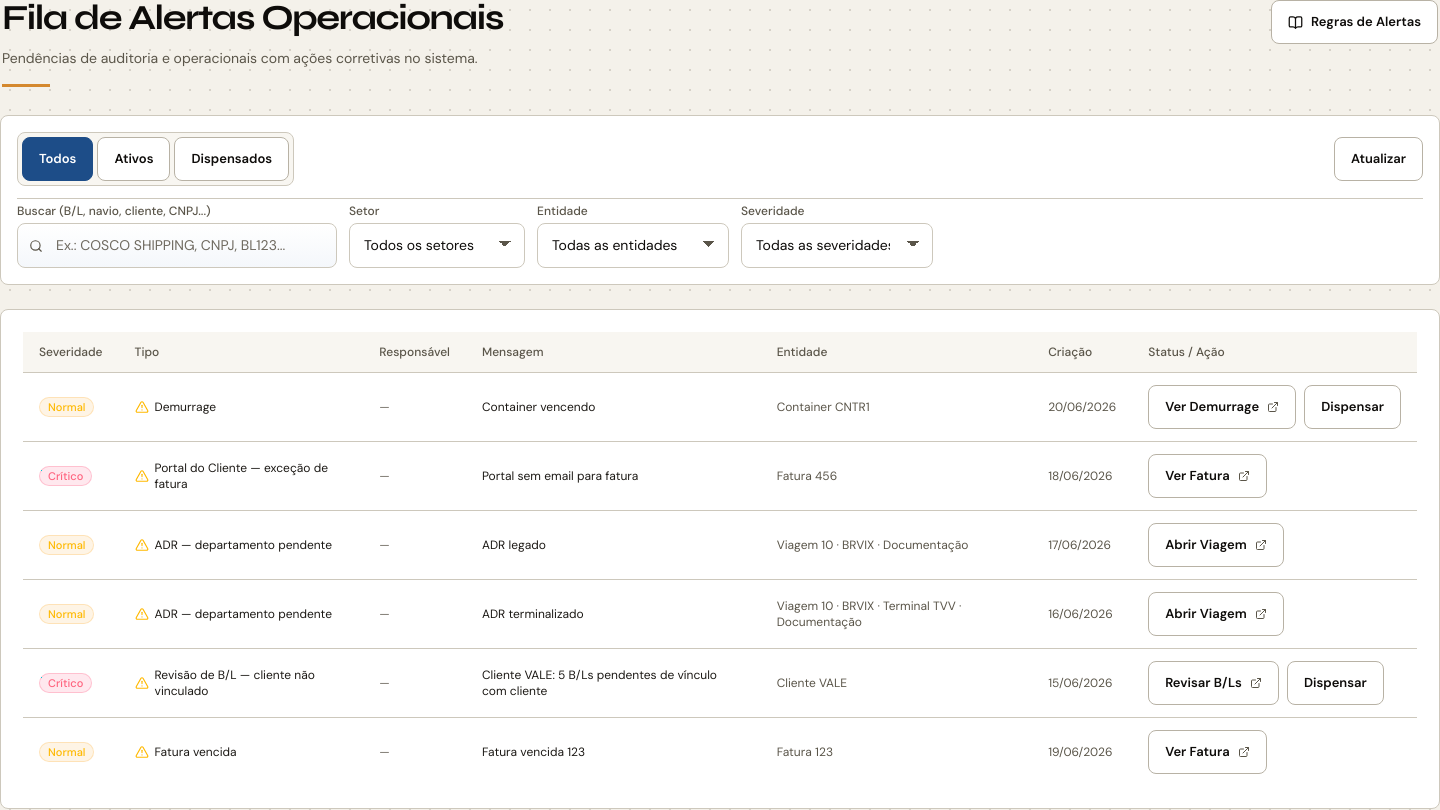
Scenario: abre modal de dispensa com acessibilidade, data minima futura e limpa campos ao cancelar
This screenshot has width=1440, height=810.
Click the button "Dispensar" next to "Ver Demurrage": (1353, 407) [1304,385,1401,429]
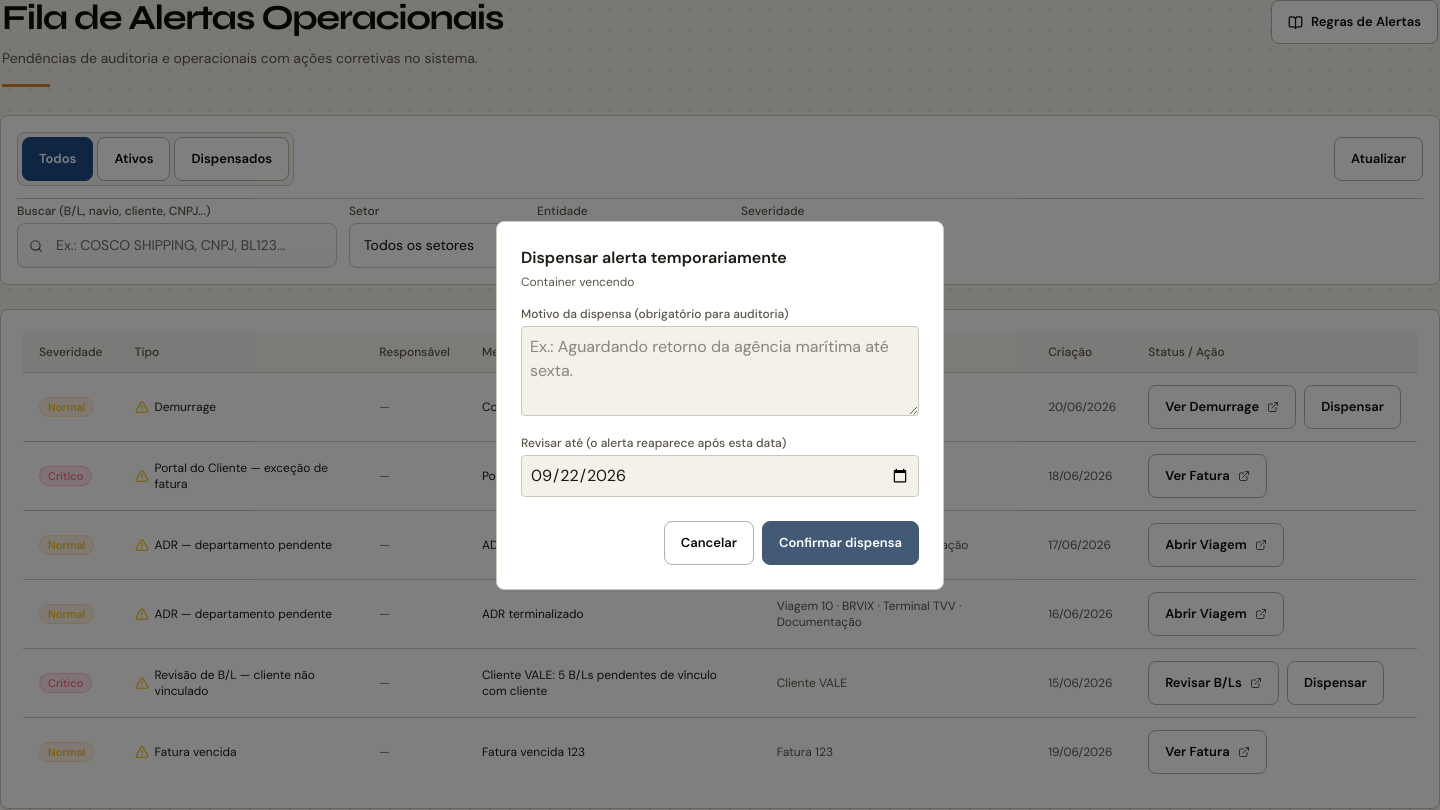
Now the dialog is shown
In the text box labelled "Motivo da dispensa (obrigatório para auditoria)": (720, 370) [521,326,919,416], type "Aguardando armador"
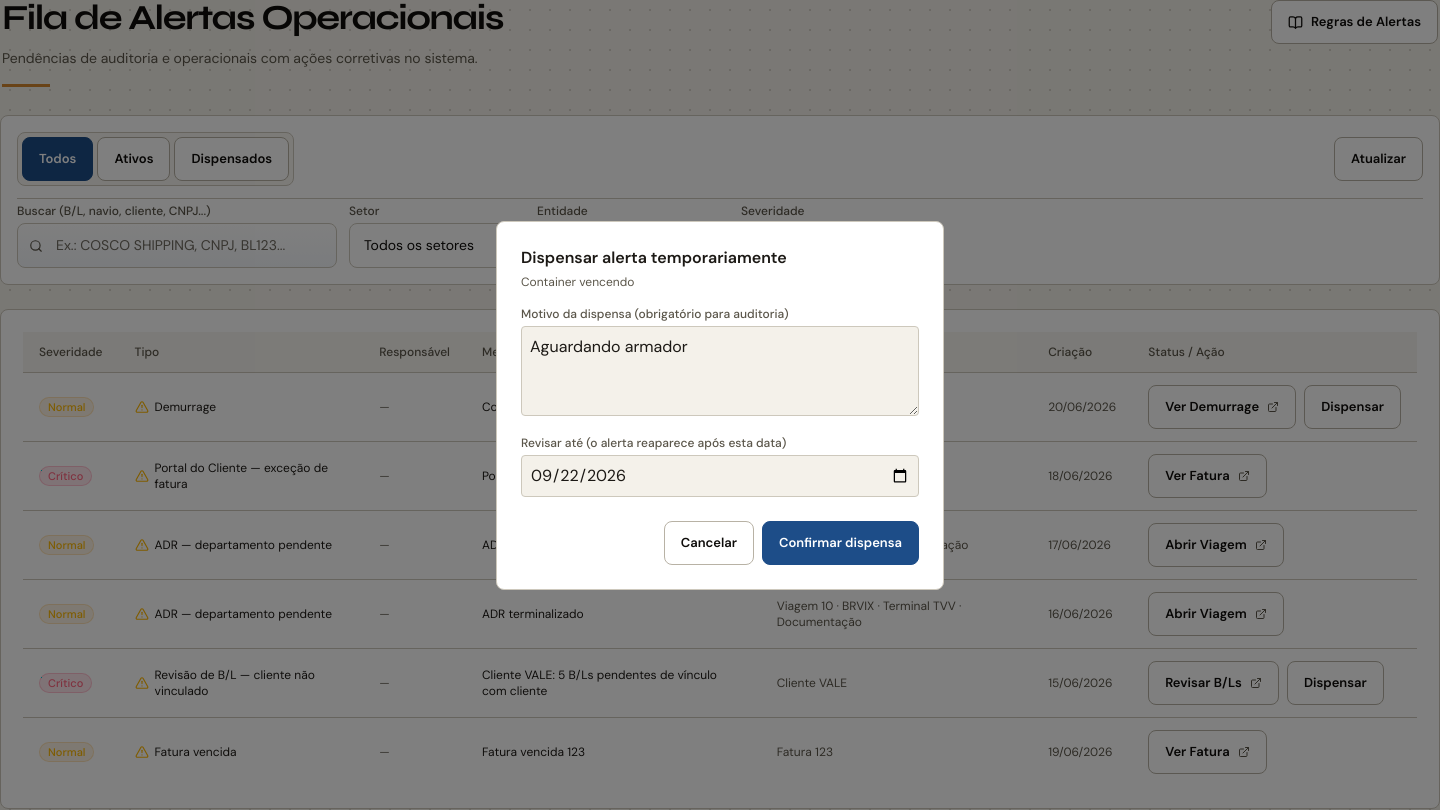
Click the button "Cancelar": (709, 542) [664,520,754,564]
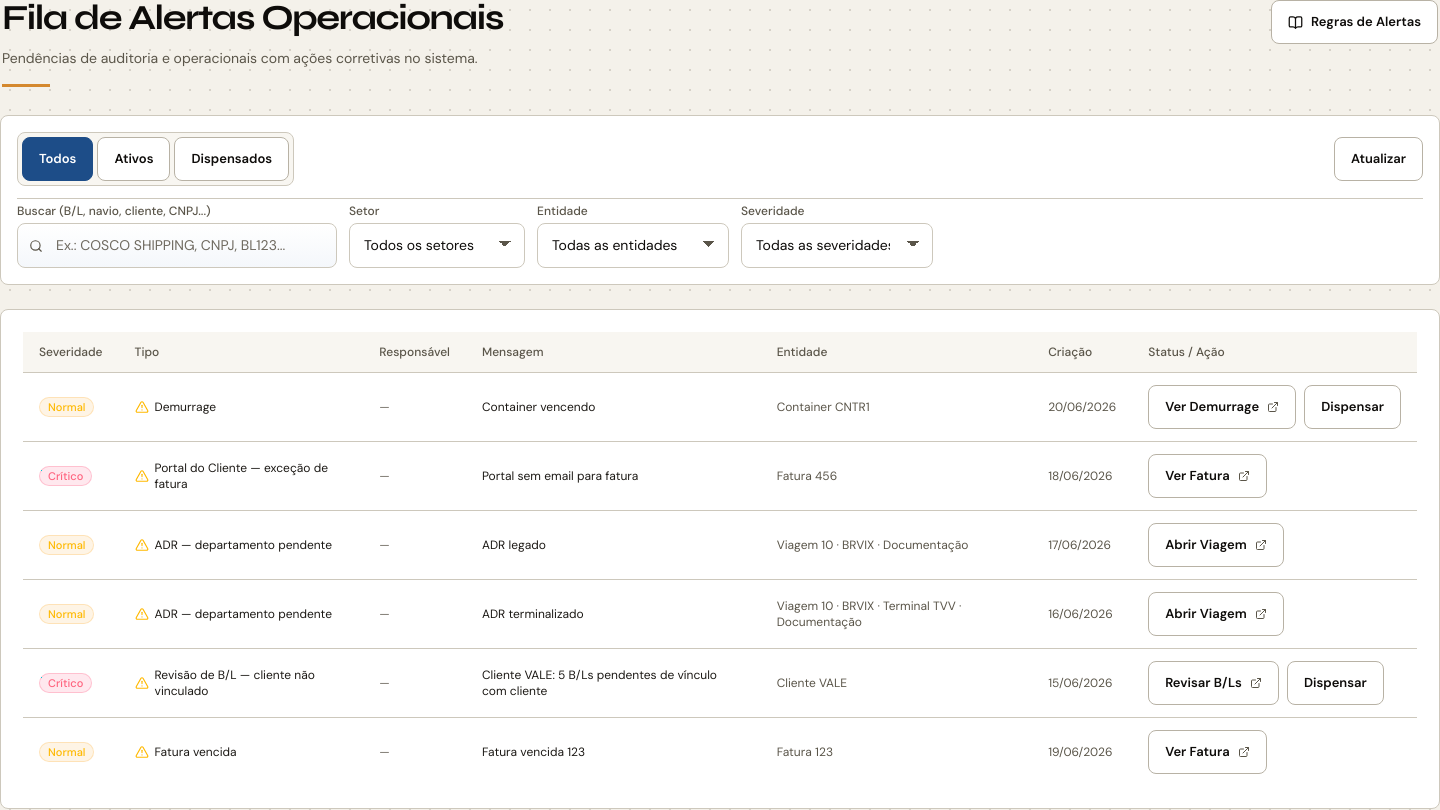
Now the dialog is gone
